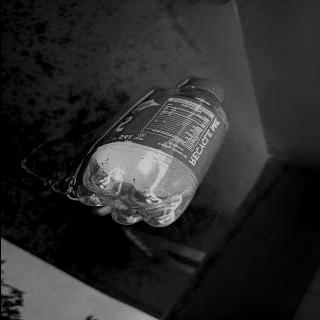bottle: (80, 77, 232, 227)
